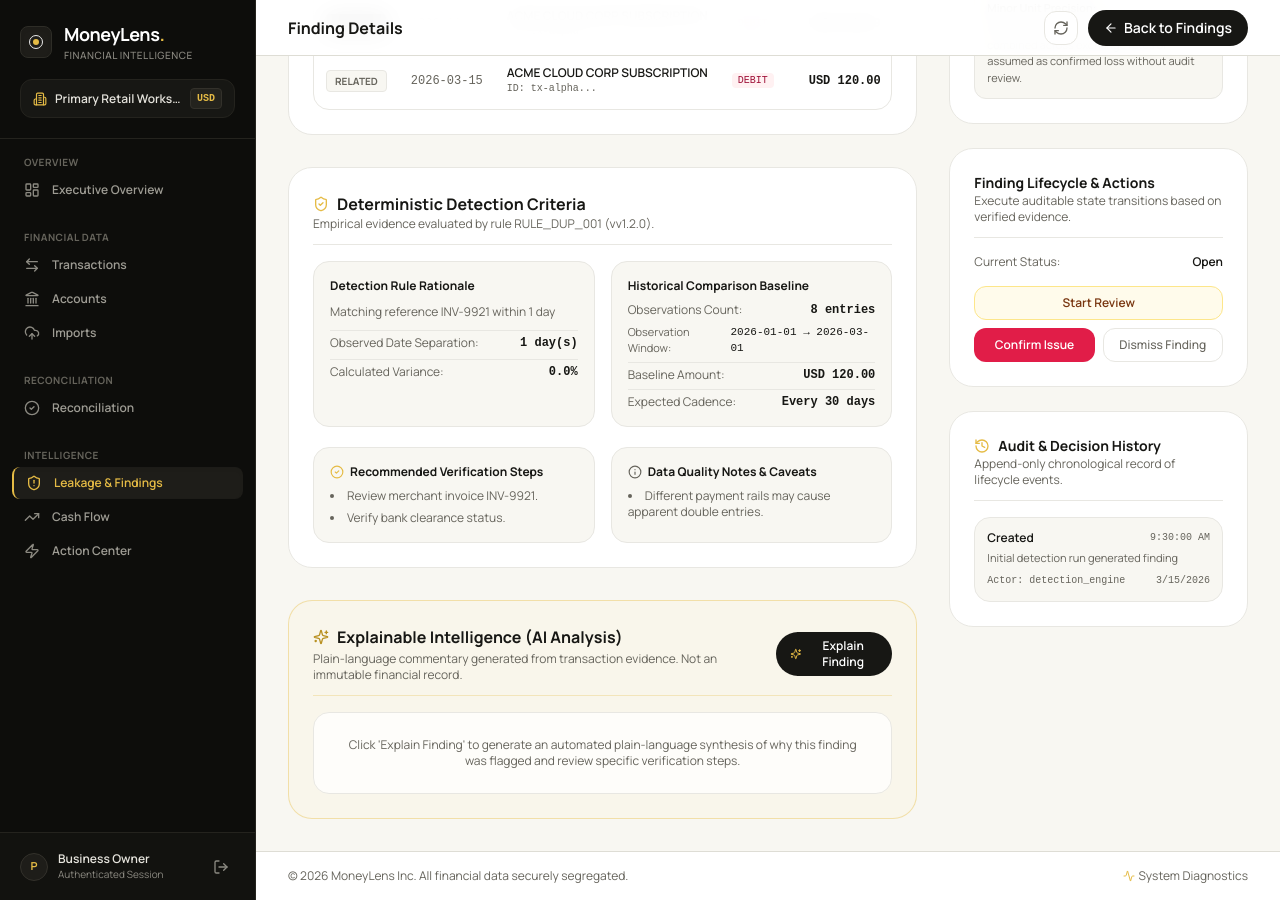
Scenario: MoneyLens Finding Details & Evidence Page Component Suite › generates and displays explainable AI analysis upon button click
(page scrolled)
Click the button "Explain Finding" at (834, 654), box top-left (776, 632), bottom-right (892, 676)
(page scrolled)
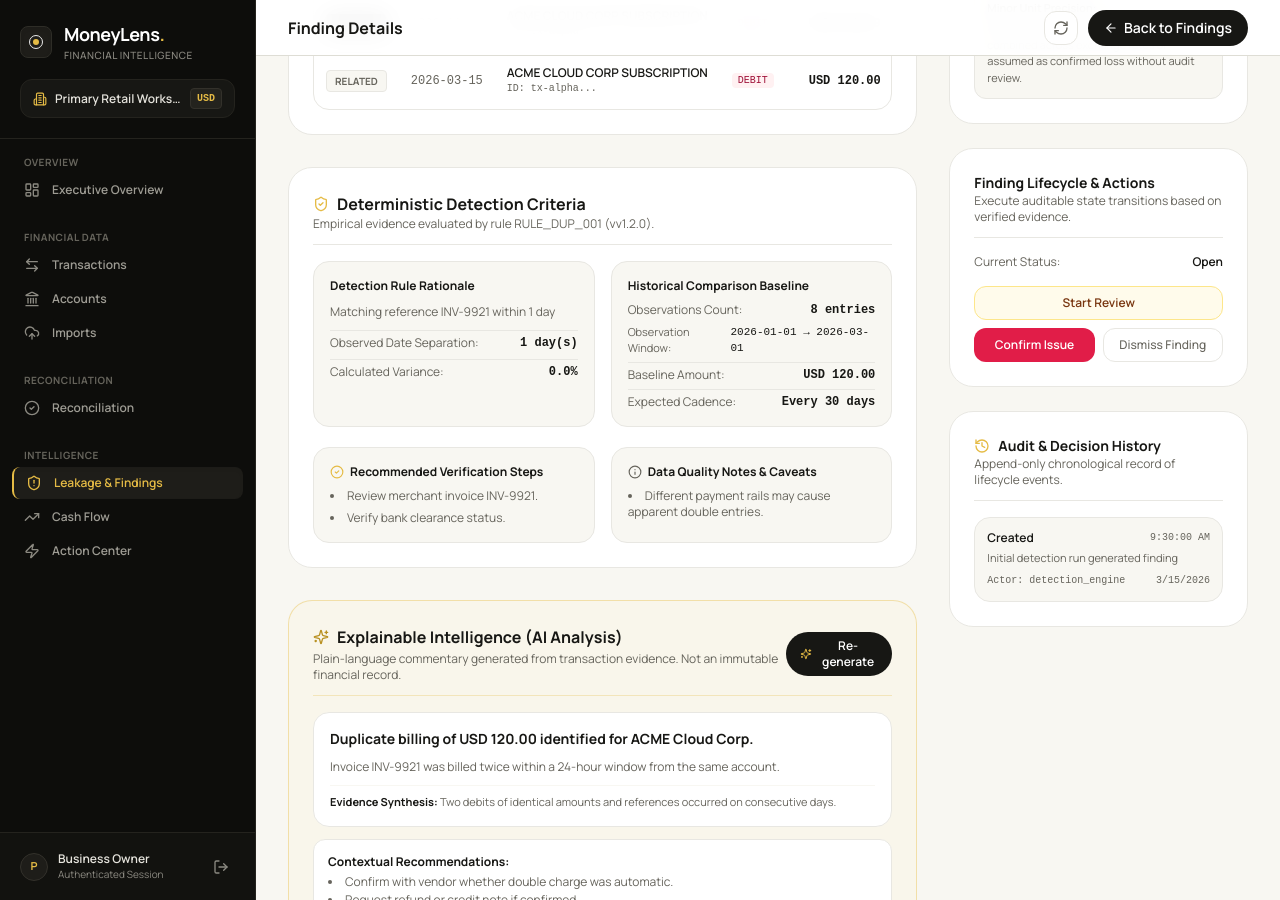
expect the text "Duplicate billing of USD 120.00 identified for ACME Cloud Corp" is shown: met, box top-left (330, 729), bottom-right (753, 748)
expect the list item "Confirm with vendor whether double charge was automatic." is shown: met, box top-left (345, 873), bottom-right (673, 890)
